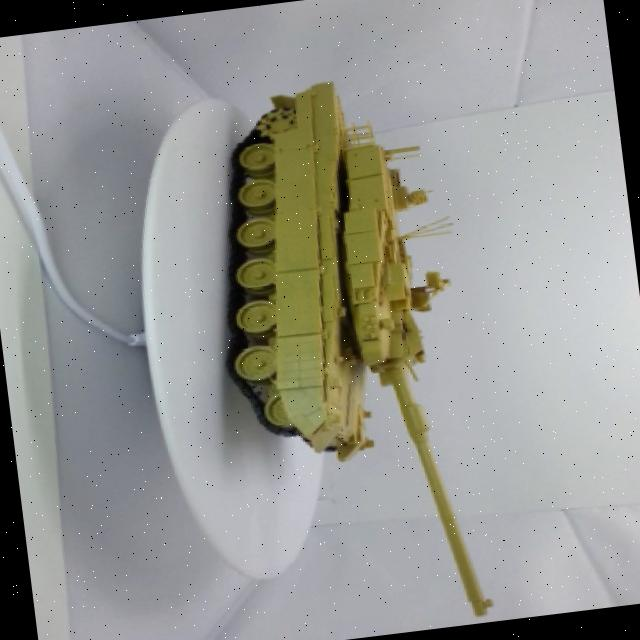korea tank: (178, 40, 508, 640)
